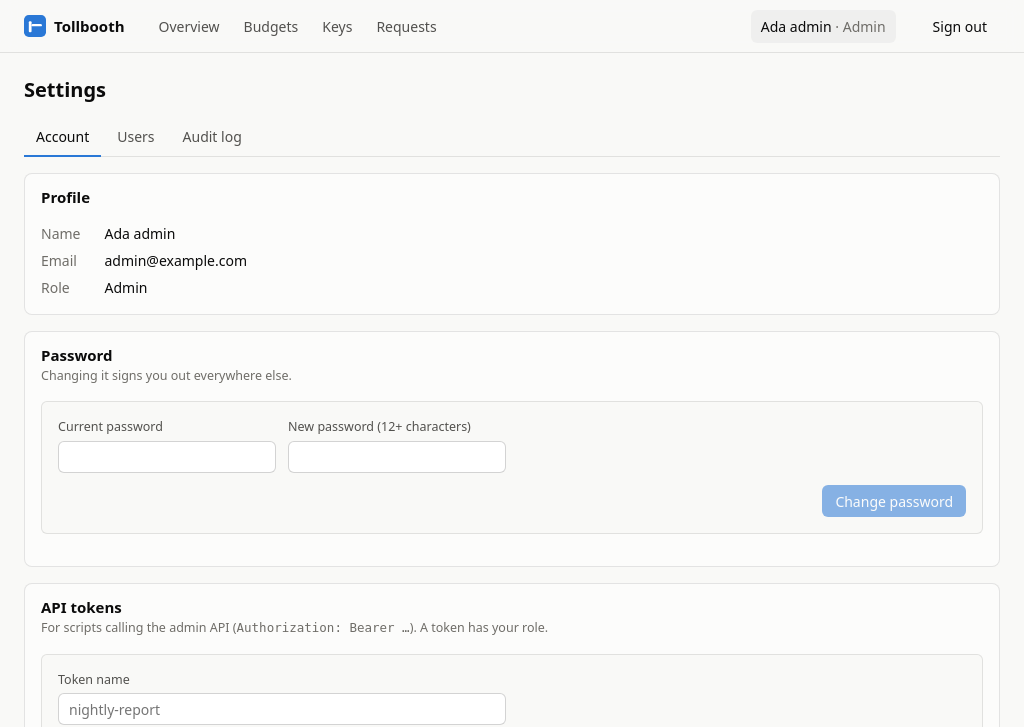
account settings › changes the password
expect the text "admin@example.com" is shown: met, box [104,251,247,270]
Type "wrong one" into the password field labelled "Current password" at (167, 457), box [58,441,276,473]
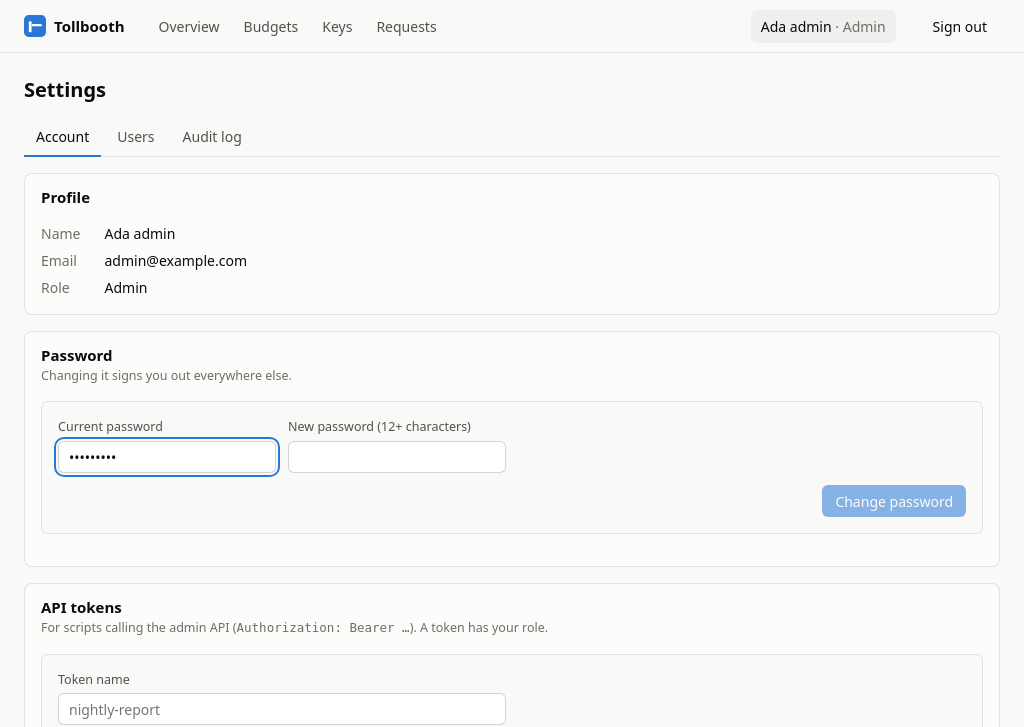
Type "a brand new password" into the password field labelled "New password (12+ characters)" at (397, 457), box [288,441,506,473]
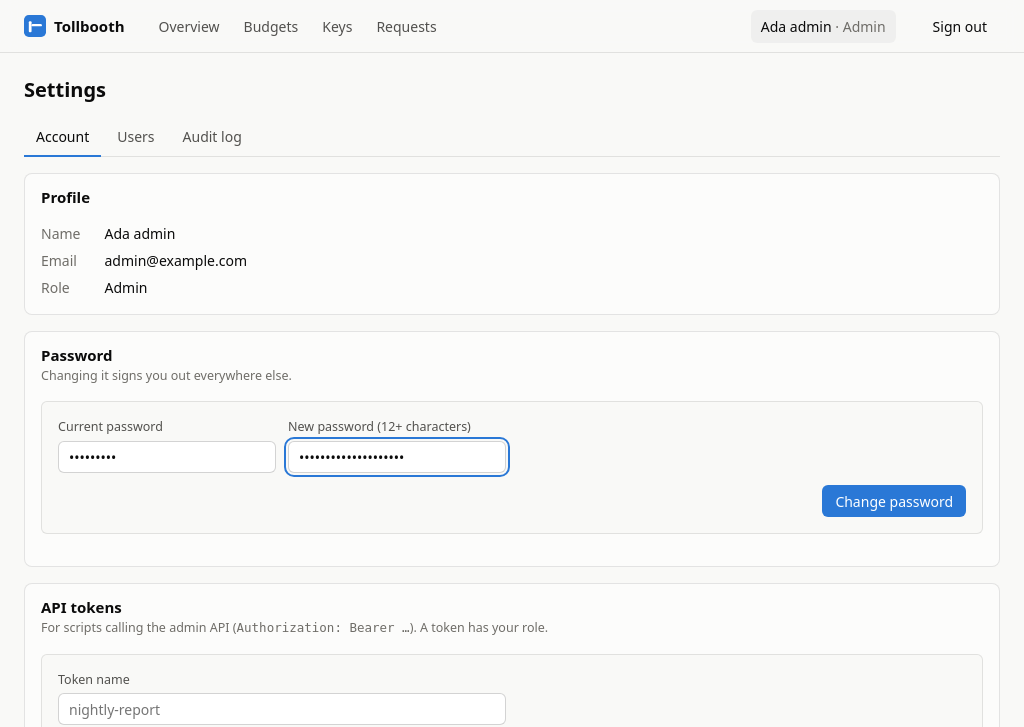
Click the button "Change password" at (894, 501), box [822,485,966,517]
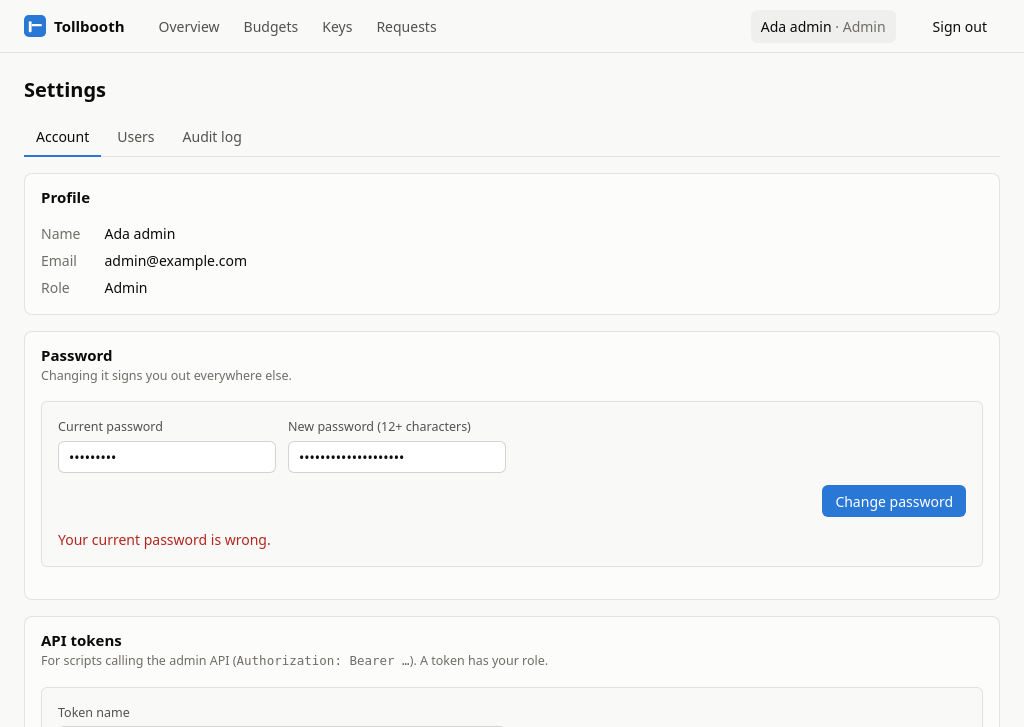
expect the message reads "Your current password is wrong.": met, box [58,530,271,549]
Type "old password here" into the password field labelled "Current password" at (167, 457), box [58,441,276,473]
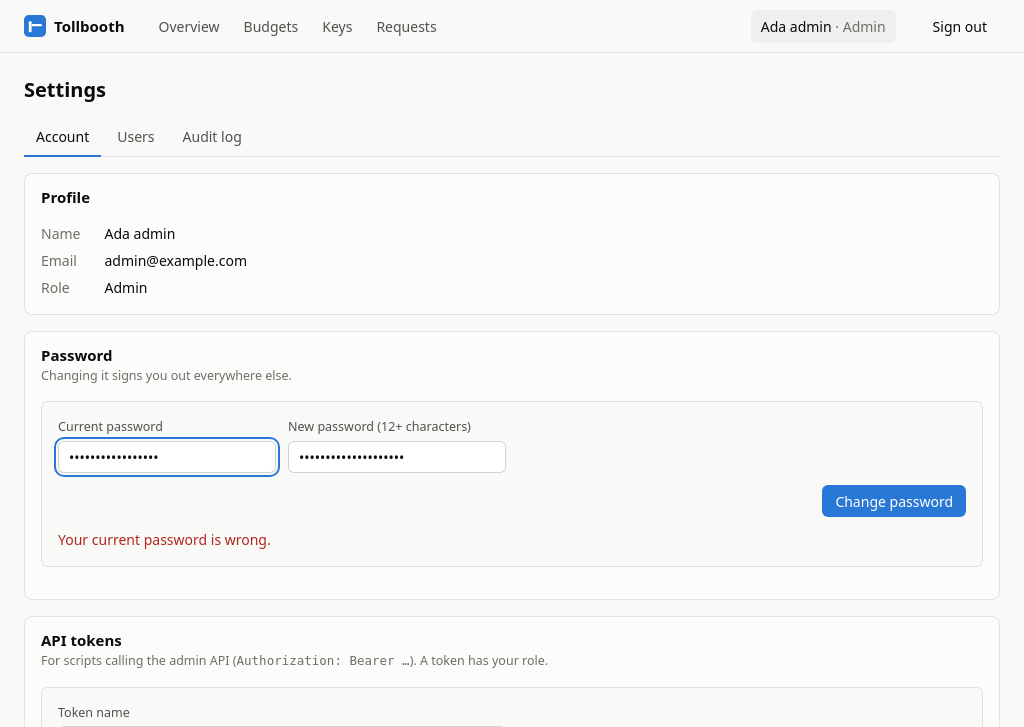
Click the button "Change password" at (894, 501), box [822,485,966,517]
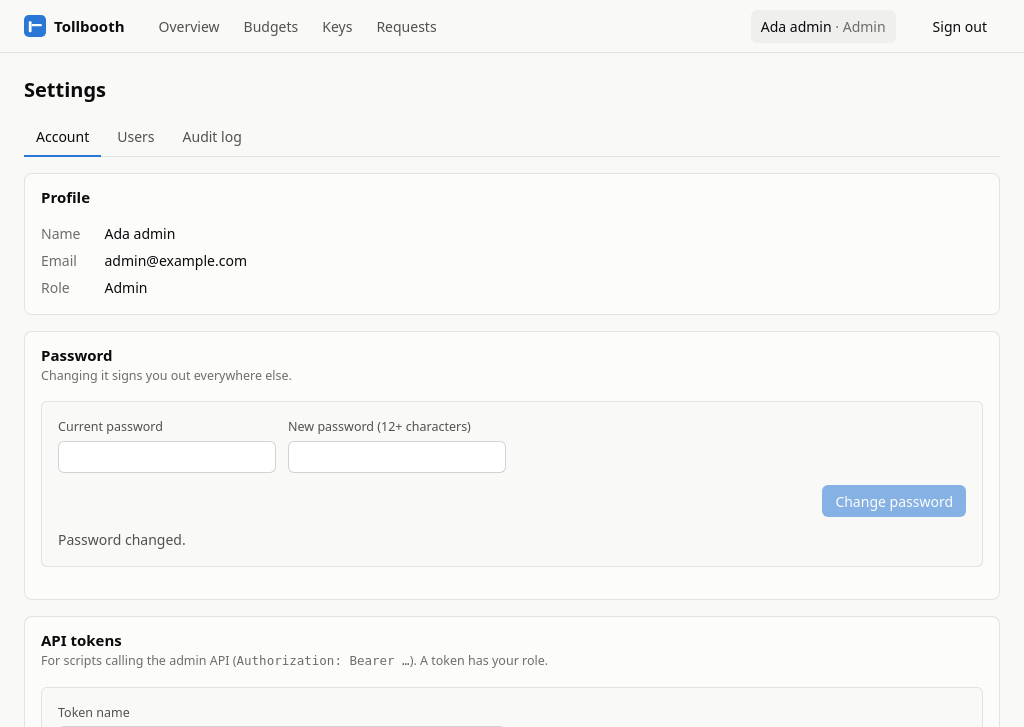
expect the text "Password changed." is shown: met, box [58,530,186,549]
